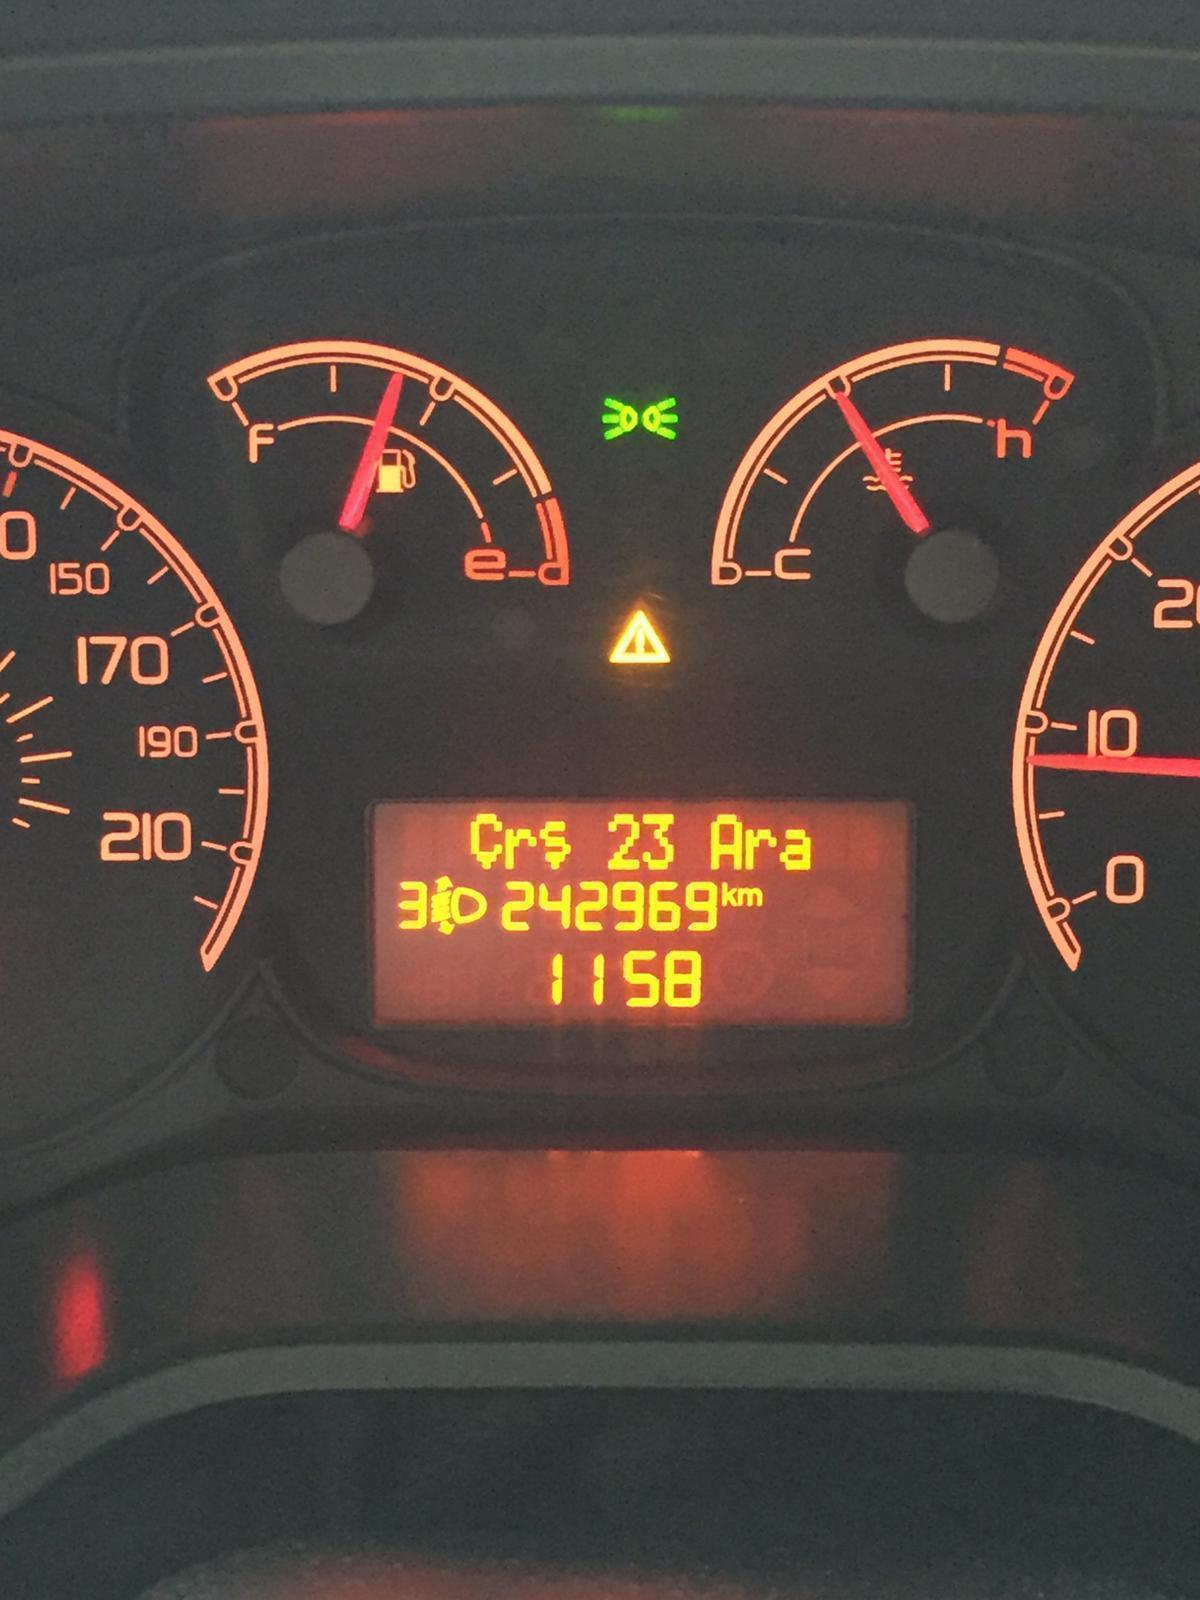1: (545, 947, 568, 1007), (586, 947, 608, 1010)
2: (604, 810, 640, 871), (499, 878, 534, 935), (574, 878, 608, 931)
3: (643, 809, 677, 876), (397, 872, 429, 934)
4: (538, 881, 570, 934)
5: (621, 947, 659, 1010)
6: (650, 878, 679, 934)
8: (663, 946, 701, 1014)
9: (683, 876, 720, 935), (610, 878, 644, 932)
X: (708, 813, 744, 872), (468, 809, 500, 871), (537, 816, 571, 874), (779, 826, 813, 872), (504, 824, 536, 871), (742, 826, 775, 871), (737, 886, 765, 908), (721, 879, 736, 908)
odometer: (358, 784, 932, 1041)
